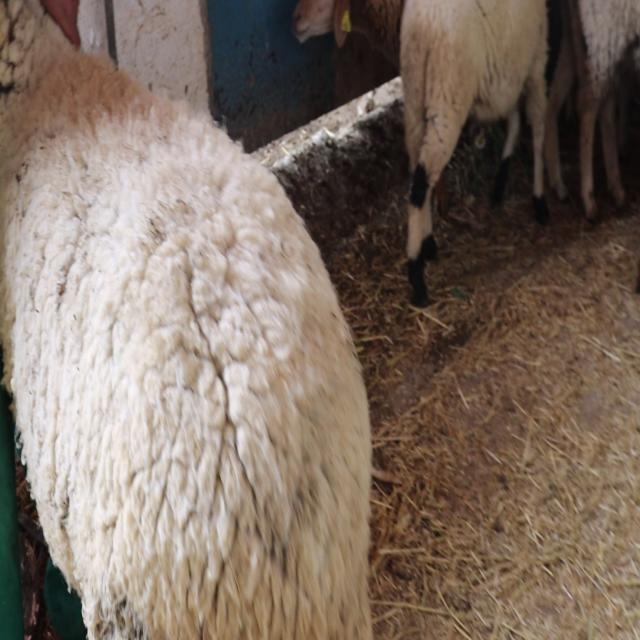Score_4: (0, 0, 372, 639)
